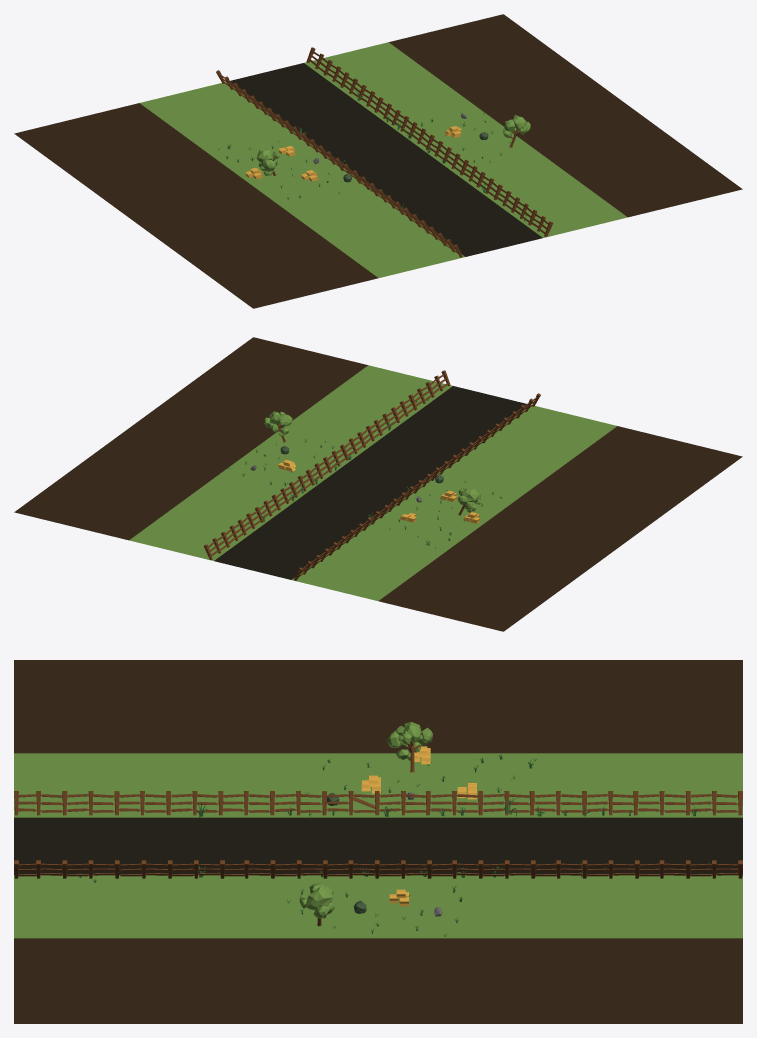
File: PlaceHolder7.fbx
3 views of the same model, one above another, from view 1: azimuth 30°, elevation 25°; view 2: azimuth 150°, elevation 25°; view 3: azimuth 270°, elevation 25° (orthographic). The views are drawn at different scales.
Parts seen in each view (by area): view 1: Plane; view 2: Plane, Tree_2.003; view 3: Plane, Tree_2.004, Tree_2.003.
Part boxes in pixels (x1,y1,x2,y2): Plane: (14,14,742,308); Plane: (14,337,742,631); Tree_2.003: (263,411,292,442); Plane: (14,660,742,1023); Tree_2.004: (387,722,432,772); Tree_2.003: (299,882,334,926).
Bounding box in the file's own units: 7459 × 457 × 6318.
